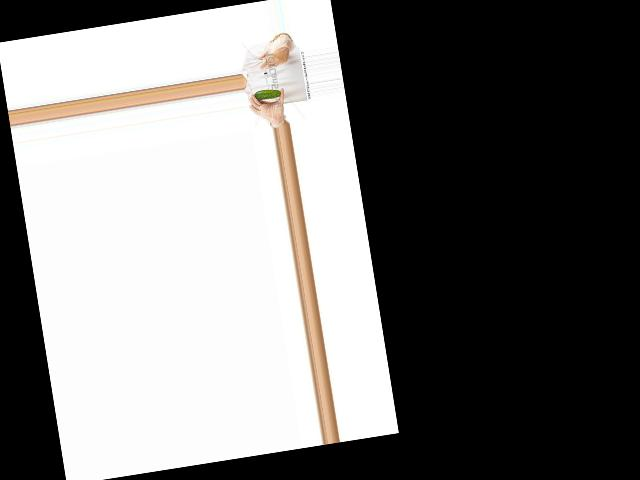cucumber: (254, 88, 282, 101)
